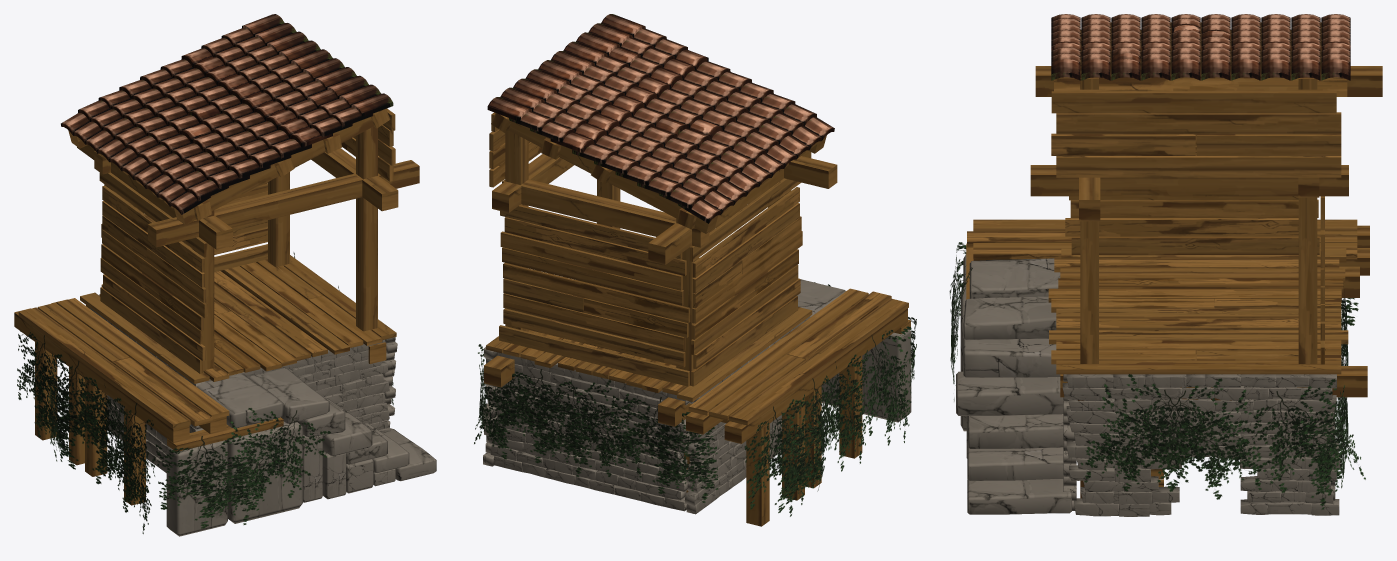
3 views of the same model, side by side, from view 1: azimuth 30°, elevation 25°; view 2: azimuth 150°, elevation 25°; view 3: azimuth 270°, elevation 25° (orthographic). The views are drawn at different scales.
Parts seen in each view (by area): view 1: Object_2, Object_9, Object_3, Object_4, Object_11, Object_10, Object_7, Object_5, Object_6; view 2: Object_2, Object_9, Object_3, Object_11, Object_10, Object_4, Object_5, Object_7, Object_6; view 3: Object_2, Object_4, Object_3, Object_9, Object_10, Object_7, Object_5, Object_6, Object_11.
Boxes of the visible parts, x1,y1,x2,y2 form: Object_2: (18, 108, 396, 429); Object_9: (61, 14, 393, 214); Object_3: (14, 109, 419, 505); Object_4: (107, 336, 436, 536); Object_11: (17, 331, 259, 528); Object_10: (70, 252, 393, 533); Object_7: (90, 308, 397, 423); Object_5: (107, 321, 360, 465); Object_6: (156, 337, 395, 472); Object_2: (486, 112, 908, 425); Object_9: (487, 14, 834, 223); Object_3: (484, 113, 910, 526); Object_11: (498, 317, 916, 516); Object_10: (474, 282, 916, 477); Object_4: (522, 279, 911, 488); Object_5: (482, 316, 810, 511); Object_7: (493, 324, 798, 514); Object_6: (483, 338, 781, 500); Object_2: (967, 91, 1357, 486); Object_4: (956, 254, 1214, 514); Object_3: (966, 22, 1382, 498); Object_9: (1051, 14, 1350, 80); Object_10: (950, 267, 1365, 509); Object_7: (1062, 374, 1335, 516); Object_5: (1110, 374, 1340, 516); Object_6: (1063, 374, 1338, 514); Object_11: (949, 242, 1358, 462).
Size of the model in its own units: 33.22 by 38.36 by 32.51.
Materials: 6 (6 with a texture image).
